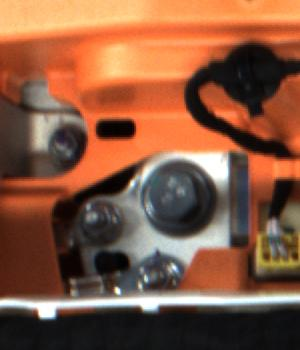nut_b: (137, 156, 221, 238)
